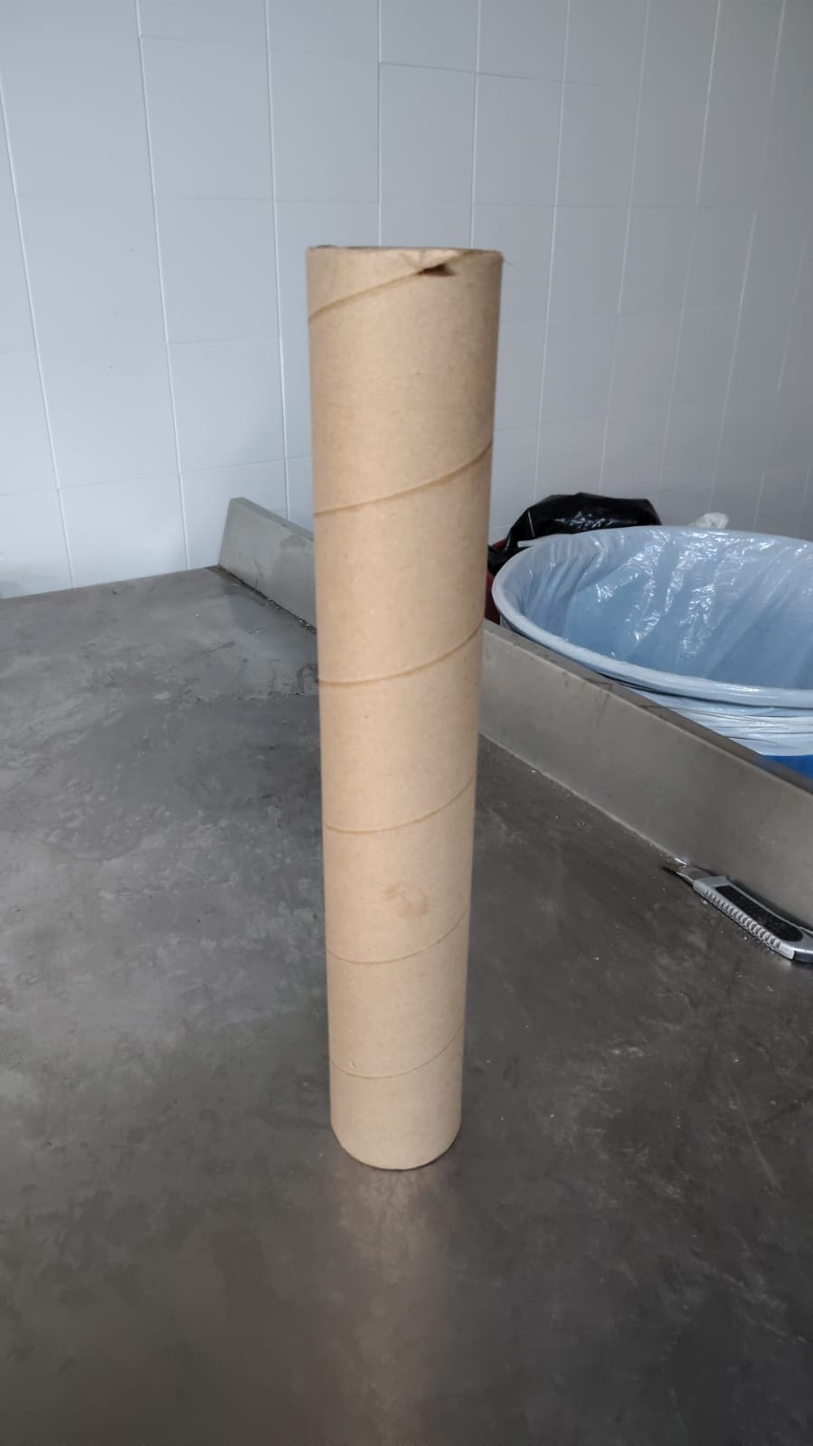Carton: (311, 248, 502, 1172)
